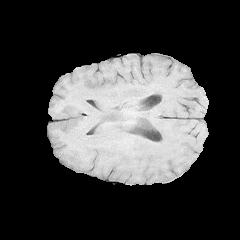glioma: (70, 105, 147, 163)
